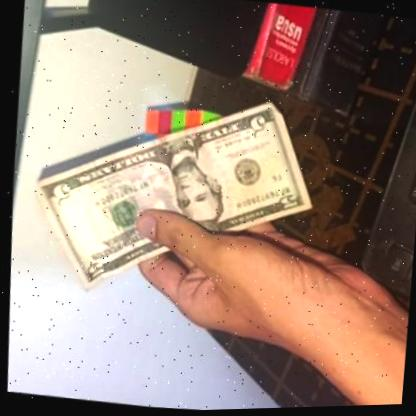five-front: (16, 69, 330, 321)
